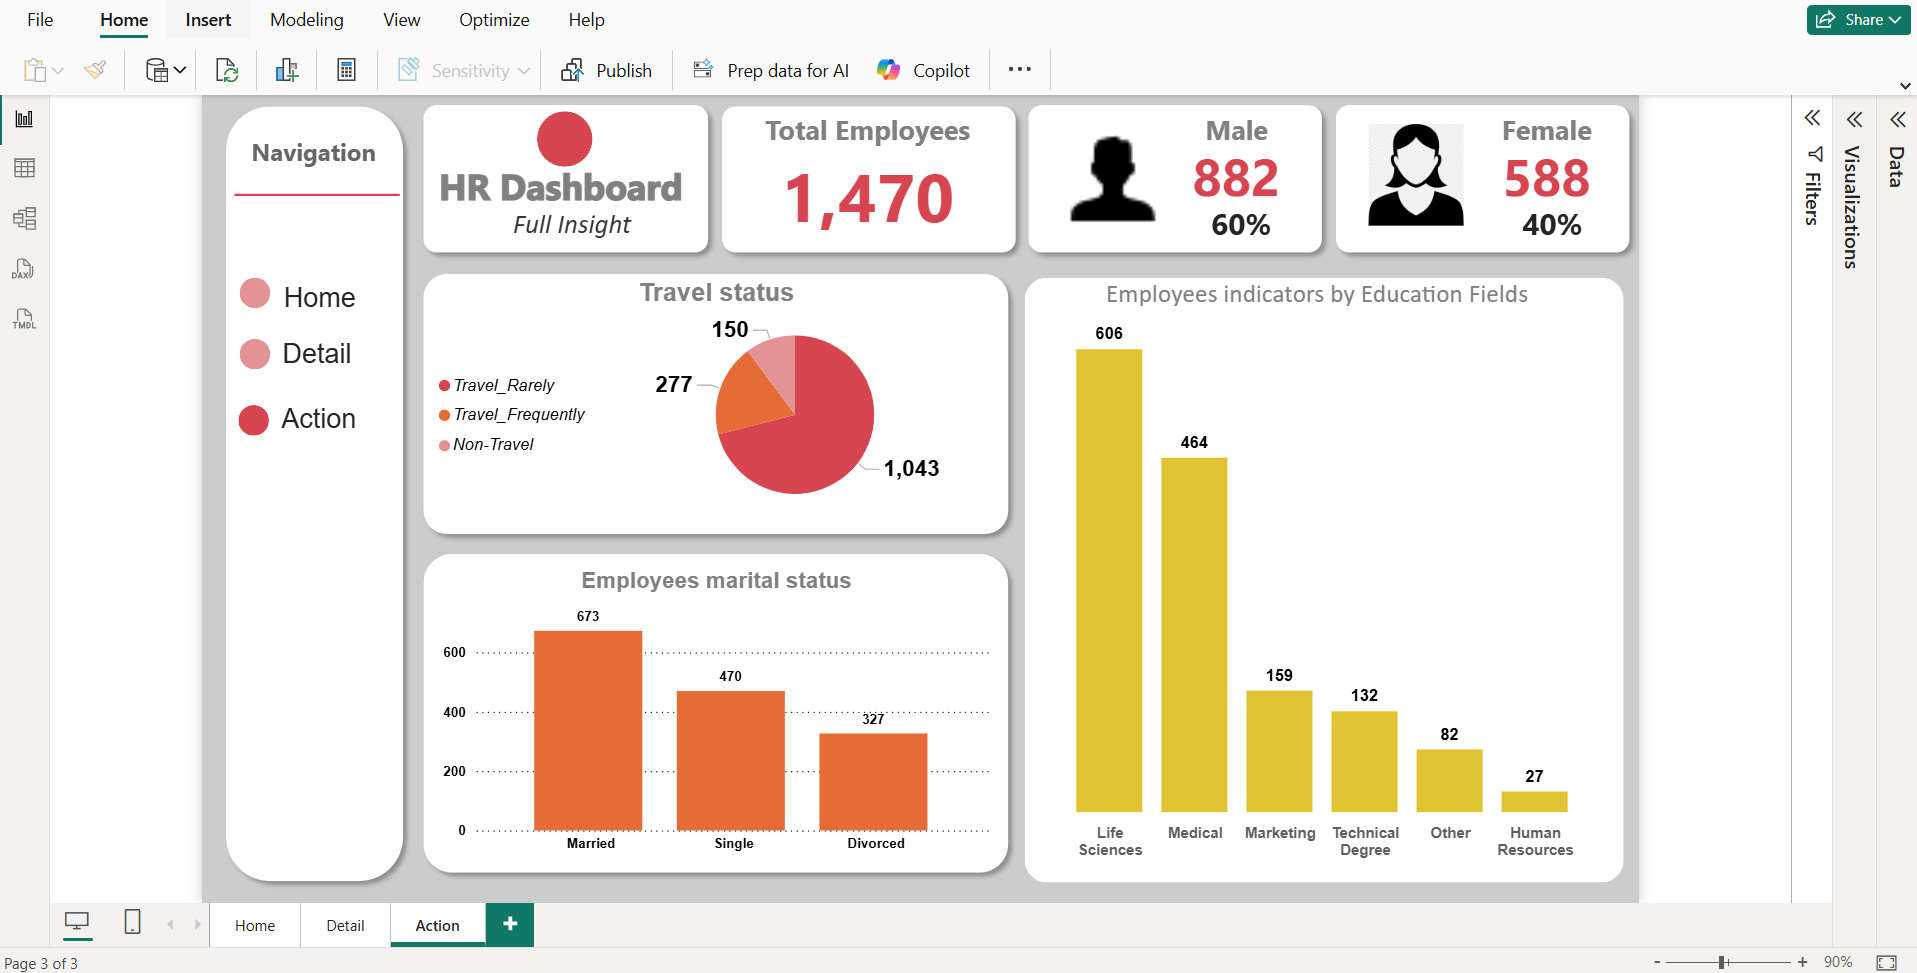

This screenshot's page, from the dashboard's own definition file:
{"tool":"powerbi","page":{"name":"Action","canvas":[1280,720],"ordinal":2},"visuals":[{"type":"shape","box":[12.2,1.1,175.9,708],"z":0},{"type":"shape","box":[453.8,1.1,279.4,148.1],"z":1000},{"type":"shape","box":[188.1,0,271.6,149.2],"z":2000},{"type":"shape","box":[727.3,0,279.4,149.2],"z":3000},{"type":"shape","box":[1000.6,0,279.4,149.2],"z":4000},{"type":"textbox","box":[205.6,54.6,236,58.4],"z":5000},{"type":"textbox","box":[261.4,83.7,144.6,57.1],"z":6000},{"type":"shape","box":[298.2,14,49.5,49.5],"z":7000},{"type":"card","title":"Total Employees","fields":{"Values":["All Measures.Total Employees"]},"box":[474.5,14,237.3,112.9],"z":8000},{"type":"card","title":"Male","fields":{"Values":["All Measures.Male"]},"box":[856.5,14,130.7,81.2],"z":9000},{"type":"card","title":"Male","fields":{"Values":["All Measures.Male %"]},"box":[889.5,95.2,72.3,41.9],"z":10000},{"type":"card","title":"Female","fields":{"Values":["All Measures.Female"]},"box":[1130.5,14,133.2,81.2],"z":11000},{"type":"card","title":"Male","fields":{"Values":["All Measures.Female %"]},"box":[1166.1,95.2,72.3,41.9],"z":12000},{"type":"image","box":[1030.3,21.6,100.2,100.2],"z":13000},{"type":"image","box":[753.7,14,112.9,112.9],"z":14000},{"type":"textbox","box":[38.8,31.2,137.5,42.5],"z":15000},{"type":"shape","box":[28.8,65,147.5,48.8],"z":16000},{"type":"shape","box":[33.8,162.5,27.5,27.5],"z":17000},{"type":"textbox","box":[67.5,162.5,101.2,43.8],"z":18000},{"type":"shape","box":[33.8,216.9,27.5,27.5],"z":19000},{"type":"textbox","box":[67,213,101.2,43.8],"z":20000},{"type":"shape","box":[32.5,276.2,27.5,27.5],"z":21000},{"type":"textbox","box":[66,271,101.2,43.8],"z":22000},{"type":"actionButton","box":[22.9,150.8,47.1,50.7],"z":23000},{"type":"actionButton","box":[22.9,203.9,47.1,50.7],"z":24000},{"type":"shape","box":[732.5,163.1,533.8,538.9],"z":25000},{"type":"clusteredColumnChart","title":"Employees indicators by Education Fields","fields":{"Category":["HR Analytics Data.Education Field"],"Y":["All Measures.Total Employees"]},"box":[732.5,163.1,521,526.1],"z":26000},{"type":"shape","box":[188.5,150.3,538.9,249.7],"z":27000},{"type":"pieChart","title":"Travel status","fields":{"Y":["All Measures.Total Employees"],"Category":["HR Analytics Data.Business Travel"]},"box":[205.1,163.1,507,219.1],"z":28000},{"type":"shape","box":[188.5,400,538.9,301.9],"z":29000},{"type":"clusteredColumnChart","title":"Employees marital status","fields":{"Category":["HR Analytics Data.Marital Status"],"Y":["All Measures.Total Employees"]},"box":[208.9,420.4,498.1,262.4],"z":30000}]}

Visuals, with their boxes on the page's 1280x720 design canvas (x1, y1, x2, y2). These are canvas units, not pixel positions in the 1917x973 screenshot, which may show the page scaled, cropped or inside an application window:
shape: <box>12,1,188,709</box>
shape: <box>454,1,733,149</box>
shape: <box>188,0,460,149</box>
shape: <box>727,0,1007,149</box>
shape: <box>1001,0,1280,149</box>
textbox: <box>206,55,442,113</box>
textbox: <box>261,84,406,141</box>
shape: <box>298,14,348,64</box>
"Total Employees" card: <box>474,14,712,127</box>
"Male" card: <box>856,14,987,95</box>
"Male" card: <box>890,95,962,137</box>
"Female" card: <box>1130,14,1264,95</box>
"Male" card: <box>1166,95,1238,137</box>
image: <box>1030,22,1130,122</box>
image: <box>754,14,867,127</box>
textbox: <box>39,31,176,74</box>
shape: <box>29,65,176,114</box>
shape: <box>34,162,61,190</box>
textbox: <box>68,162,169,206</box>
shape: <box>34,217,61,244</box>
textbox: <box>67,213,168,257</box>
shape: <box>32,276,60,304</box>
textbox: <box>66,271,167,315</box>
actionButton: <box>23,151,70,202</box>
actionButton: <box>23,204,70,255</box>
shape: <box>732,163,1266,702</box>
"Employees indicators by Education Fields" clusteredColumnChart: <box>732,163,1254,689</box>
shape: <box>188,150,727,400</box>
"Travel status" pieChart: <box>205,163,712,382</box>
shape: <box>188,400,727,702</box>
"Employees marital status" clusteredColumnChart: <box>209,420,707,683</box>
